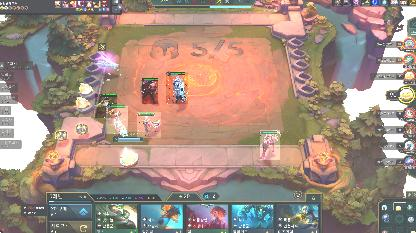1_braum: (142, 78, 158, 104)
1_lillia: (260, 130, 280, 160)
1_nasus: (95, 94, 117, 118)
1_rakan: (137, 112, 161, 138)
2_leona: (166, 72, 188, 104)
2_taliyah: (106, 106, 128, 134)
